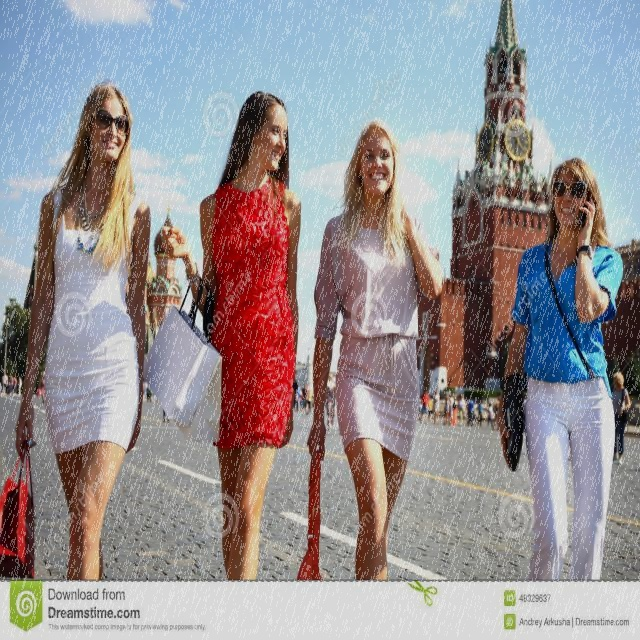pessoa: (292, 118, 448, 640), (140, 87, 304, 582), (0, 77, 155, 582), (494, 154, 626, 580), (611, 370, 632, 467), (291, 382, 314, 416), (324, 373, 336, 430), (419, 387, 432, 424), (141, 381, 156, 407), (35, 370, 46, 404), (431, 388, 440, 426), (492, 398, 502, 432), (474, 400, 484, 428), (484, 402, 494, 430), (458, 393, 466, 427), (442, 394, 451, 424), (467, 394, 475, 426), (565, 434, 574, 462), (448, 392, 455, 426), (452, 394, 459, 428), (0, 370, 10, 393), (467, 395, 474, 426), (10, 374, 18, 396), (8, 372, 14, 397), (428, 394, 434, 419), (16, 374, 22, 396), (416, 398, 422, 420), (162, 408, 170, 422)
